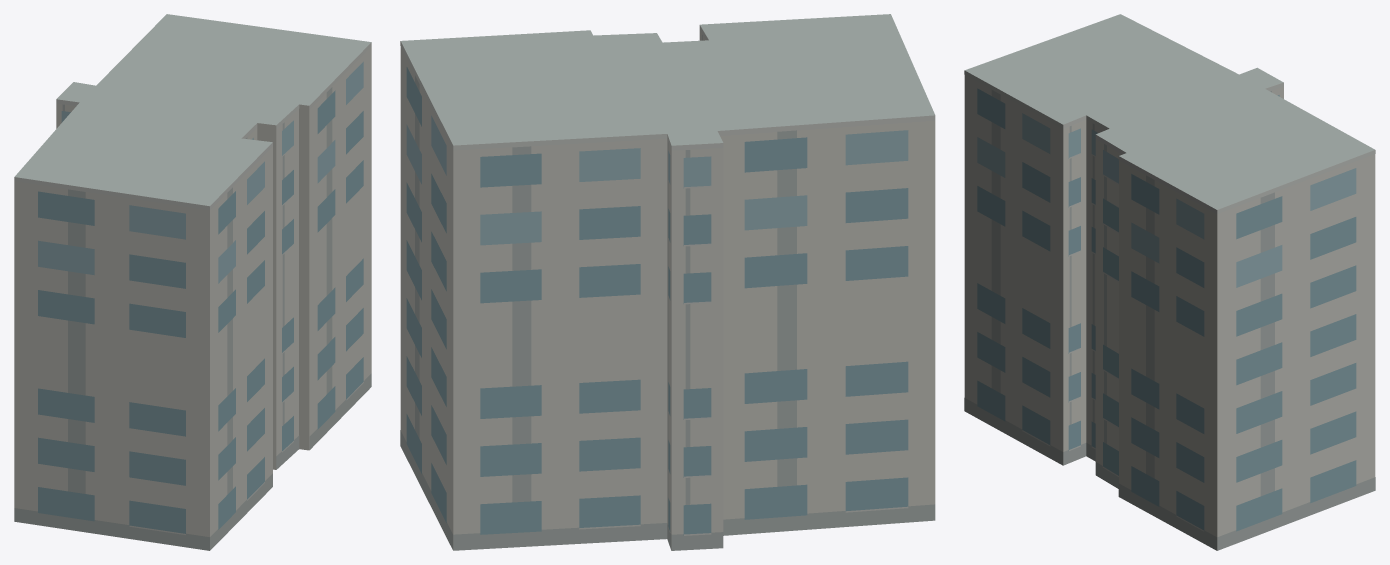
The model's file is survey-upis-32529521.glb.
3 renders of one model, left to right at view 1: azimuth 30°, elevation 25°; view 2: azimuth 150°, elevation 25°; view 3: azimuth 270°, elevation 25°, orthographic. The views are drawn at different scales.
Parts seen in each view (by area): view 1: survey-upis-32529521.tmp; view 2: survey-upis-32529521.tmp; view 3: survey-upis-32529521.tmp.
Boxes of the visible parts, bbox=[...] form: survey-upis-32529521.tmp: bbox=[14, 14, 371, 550]; survey-upis-32529521.tmp: bbox=[400, 14, 935, 550]; survey-upis-32529521.tmp: bbox=[964, 14, 1375, 550].
Bounding box in the file's own units: 23.81 × 19.3 × 21.09.
